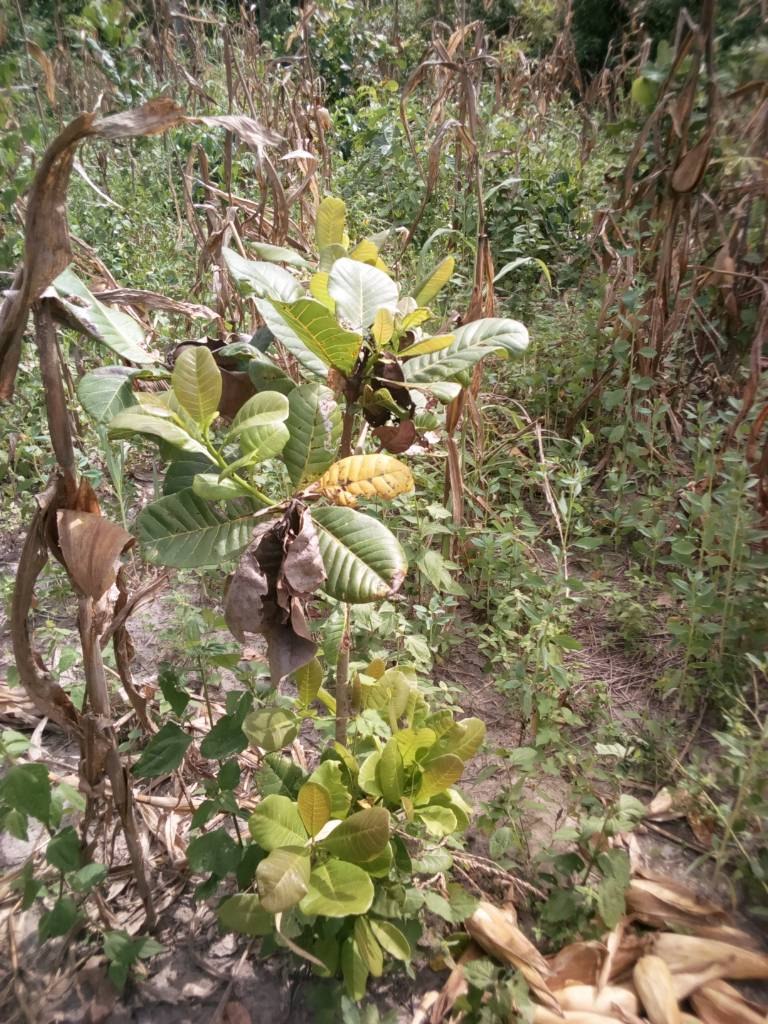Dessèchement des bourgeons: (262, 504, 315, 638), (340, 347, 421, 422)
